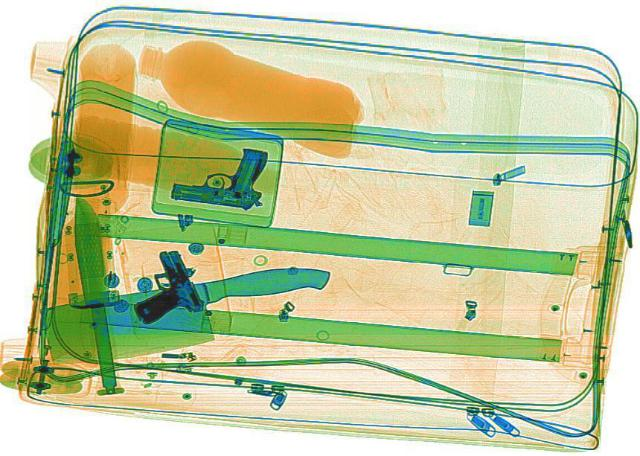Gun: (165, 137, 278, 210), (106, 244, 210, 323)
Knife: (30, 258, 348, 365), (63, 193, 125, 389), (31, 139, 77, 323)
